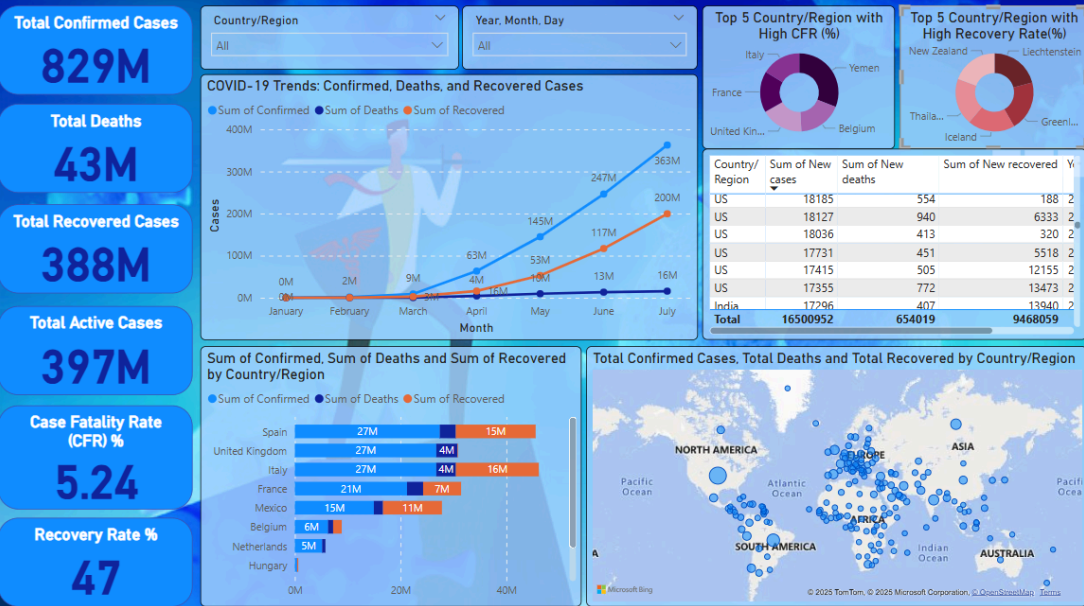

The dashboard page shown, as its layout file describes it:
{"tool":"powerbi","page":{"name":"Dashboard ","canvas":[1280,720],"ordinal":1},"visuals":[{"type":"card","title":"Total Confirmed Cases","fields":{"Values":["full_grouped.Total Confirmed Cases"]},"box":[0,13,229,105.1],"z":0},{"type":"card","title":"Total Deaths","fields":{"Values":["full_grouped.Total Deaths"]},"box":[0,128.2,229,105.1],"z":1000},{"type":"card","title":"Total Recovered Cases","fields":{"Values":["full_grouped.Total Recovered"]},"box":[0,246.2,229,105.1],"z":2000},{"type":"card","title":"Total Active Cases","fields":{"Values":["full_grouped.Total Active Cases"]},"box":[0,365.8,229,105.1],"z":3000},{"type":"card","title":"Case Fatality Rate (CFR) %","fields":{"Values":["full_grouped.Fatality Rate(CFR)"]},"box":[0,482.4,229,122.4],"z":4000},{"type":"card","title":"Recovery Rate %","fields":{"Values":["full_grouped.Recovery Rate"]},"box":[0,614.9,229,105.1],"z":5000},{"type":"lineChart","title":"COVID-19  Trends: Confirmed, Deaths, and Recovered Cases","fields":{"Category":["full_grouped.Date.Variation.Date Hierarchy.Year","full_grouped.Date.Variation.Date Hierarchy.Month","full_grouped.Date.Variation.Date Hierarchy.Day"],"Y":["Sum(full_grouped.Confirmed)","Sum(full_grouped.Deaths)","Sum(full_grouped.Recovered)"]},"box":[237.6,93.6,584.6,312.5],"z":6000},{"type":"slicer","fields":{"Values":["full_grouped.Date.Variation.Date Hierarchy.Year","full_grouped.Date.Variation.Date Hierarchy.Month","full_grouped.Date.Variation.Date Hierarchy.Day"]},"box":[545.8,13,276.5,74.9],"z":7000},{"type":"barChart","fields":{"Category":["full_grouped.Country/Region"],"Y":["Sum(full_grouped.Confirmed)","Sum(full_grouped.Deaths)","Sum(full_grouped.Recovered)"]},"box":[237.6,413.3,447.8,306.7],"z":8000},{"type":"donutChart","title":"Top 5 Country/Region with High CFR (%)","fields":{"Category":["full_grouped.Country/Region"],"Y":["full_grouped.Fatality Rate(CFR)"]},"box":[828,13,226.1,168.5],"z":9000},{"type":"slicer","fields":{"Values":["full_grouped.Country/Region"]},"box":[237.6,13,303.8,74.9],"z":10000},{"type":"donutChart","title":"Top 5 Country/Region with High Recovery Rate(%)","fields":{"Category":["full_grouped.Country/Region"],"Y":["full_grouped.Recovery Rate"]},"box":[1059.8,13,220.3,168.5],"z":11000},{"type":"tableEx","fields":{"Values":["full_grouped.Country/Region","Sum(full_grouped.New cases)","Sum(full_grouped.New deaths)","Sum(full_grouped.New recovered)","full_grouped.Date.Variation.Date Hierarchy.Year","full_grouped.Date.Variation.Date Hierarchy.Month","full_grouped.Date.Variation.Date Hierarchy.Day"]},"box":[828,181.4,452.2,224.6],"z":12000},{"type":"map","fields":{"Category":["full_grouped.Country/Region"],"Size":["full_grouped.Total Confirmed Cases"]},"box":[828,413,452,307],"z":12001}]}

Visuals, with their boxes in screenshot pixels (x1, y1, x2, y2), scaled from the page's 1280x720 canvas onto the 1084x606 screenshot:
"Total Confirmed Cases" card: {"x1": 0, "y1": 11, "x2": 194, "y2": 99}
"Total Deaths" card: {"x1": 0, "y1": 108, "x2": 194, "y2": 196}
"Total Recovered Cases" card: {"x1": 0, "y1": 207, "x2": 194, "y2": 296}
"Total Active Cases" card: {"x1": 0, "y1": 308, "x2": 194, "y2": 396}
"Case Fatality Rate (CFR) %" card: {"x1": 0, "y1": 406, "x2": 194, "y2": 509}
"Recovery Rate %" card: {"x1": 0, "y1": 518, "x2": 194, "y2": 605}
"COVID-19  Trends: Confirmed, Deaths, and Recovered Cases" lineChart: {"x1": 201, "y1": 79, "x2": 696, "y2": 342}
slicer - full_grouped.Date.Variation.Date Hierarchy.Year x full_grouped.Date.Variation.Date Hierarchy.Month: {"x1": 462, "y1": 11, "x2": 696, "y2": 74}
barChart - full_grouped.Country/Region x Sum(full_grouped.Confirmed): {"x1": 201, "y1": 348, "x2": 580, "y2": 605}
"Top 5 Country/Region with High CFR (%)" donutChart: {"x1": 701, "y1": 11, "x2": 893, "y2": 153}
slicer - full_grouped.Country/Region: {"x1": 201, "y1": 11, "x2": 458, "y2": 74}
"Top 5 Country/Region with High Recovery Rate(%)" donutChart: {"x1": 898, "y1": 11, "x2": 1083, "y2": 153}
tableEx - full_grouped.Country/Region x Sum(full_grouped.New cases): {"x1": 701, "y1": 153, "x2": 1083, "y2": 342}
map - full_grouped.Country/Region x full_grouped.Total Confirmed Cases: {"x1": 701, "y1": 348, "x2": 1083, "y2": 605}
